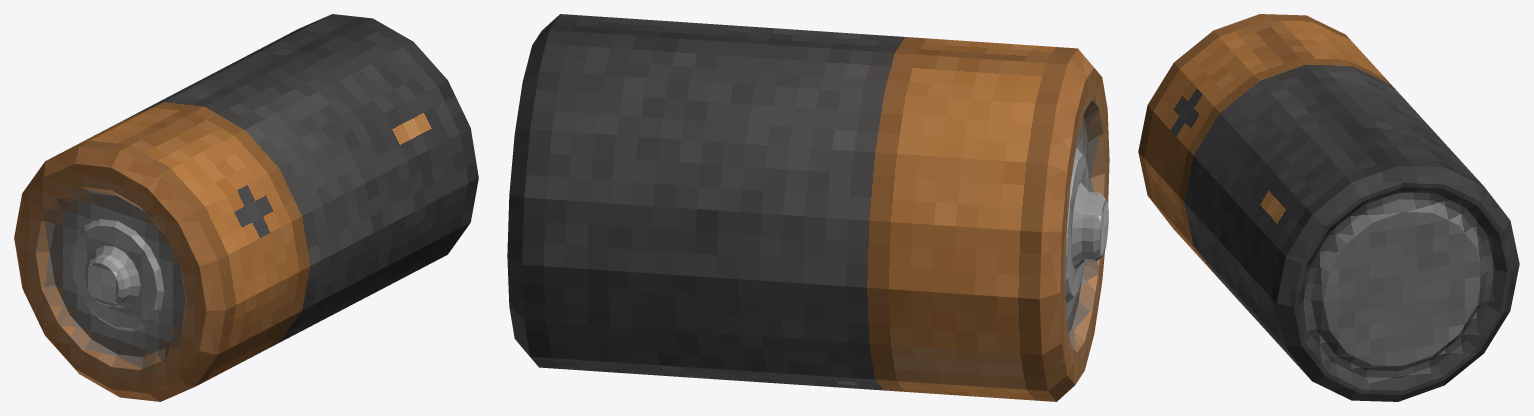
3 views of the same model, side by side, from view 1: azimuth 30°, elevation 25°; view 2: azimuth 150°, elevation 25°; view 3: azimuth 270°, elevation 25° (orthographic). The views are drawn at different scales.
Parts seen in each view (by area): view 1: battery_2; view 2: battery_2; view 3: battery_2.
Part boxes in pixels (x1,y1,x2,y2): battery_2: (14,14,478,401); battery_2: (507,14,1109,401); battery_2: (1138,14,1519,401).
Bounding box in the file's own units: 0.0969 × 0.054 × 0.0791.
Materials: 1 (1 with a texture image).
